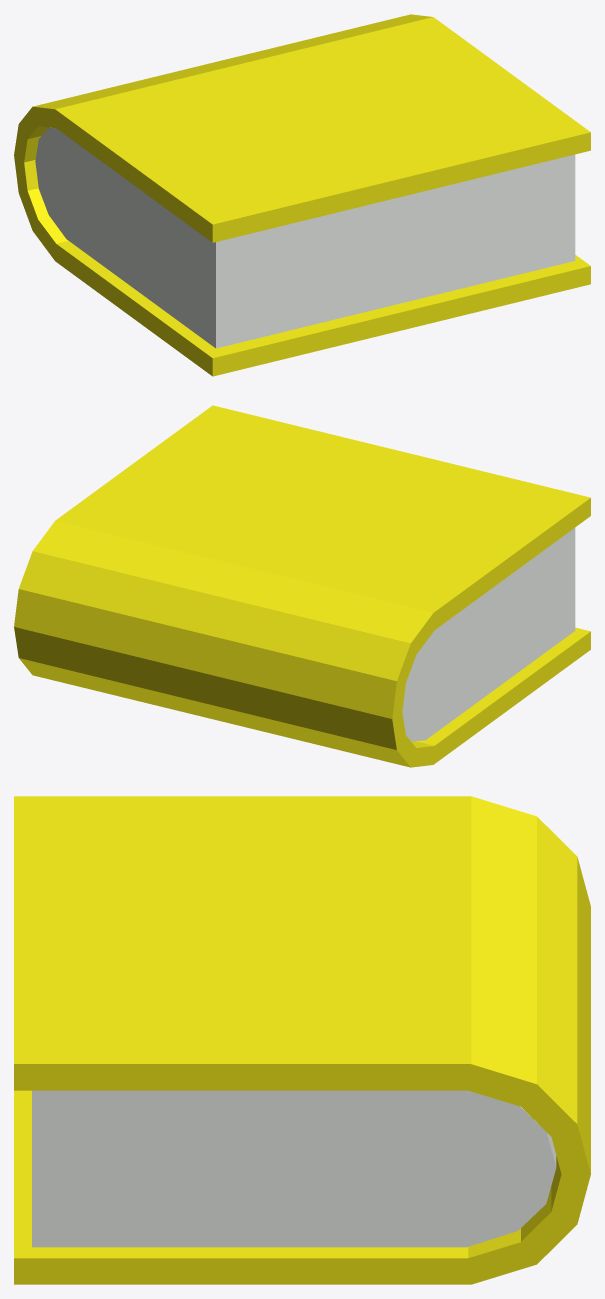
File: Book_3b.fbx
3 renders of one model, top to bottom at view 1: azimuth 30°, elevation 25°; view 2: azimuth 150°, elevation 25°; view 3: azimuth 270°, elevation 25°, orthographic. The views are drawn at different scales.
Parts seen in each view (by area): view 1: Book_3b; view 2: Book_3b; view 3: Book_3b.
Part boxes in pixels (bbox=[...]): Book_3b: bbox=[14, 14, 590, 376]; Book_3b: bbox=[14, 405, 590, 767]; Book_3b: bbox=[14, 796, 590, 1284].
Bounding box in the file's own units: 0.2083 × 0.08 × 0.1896.
